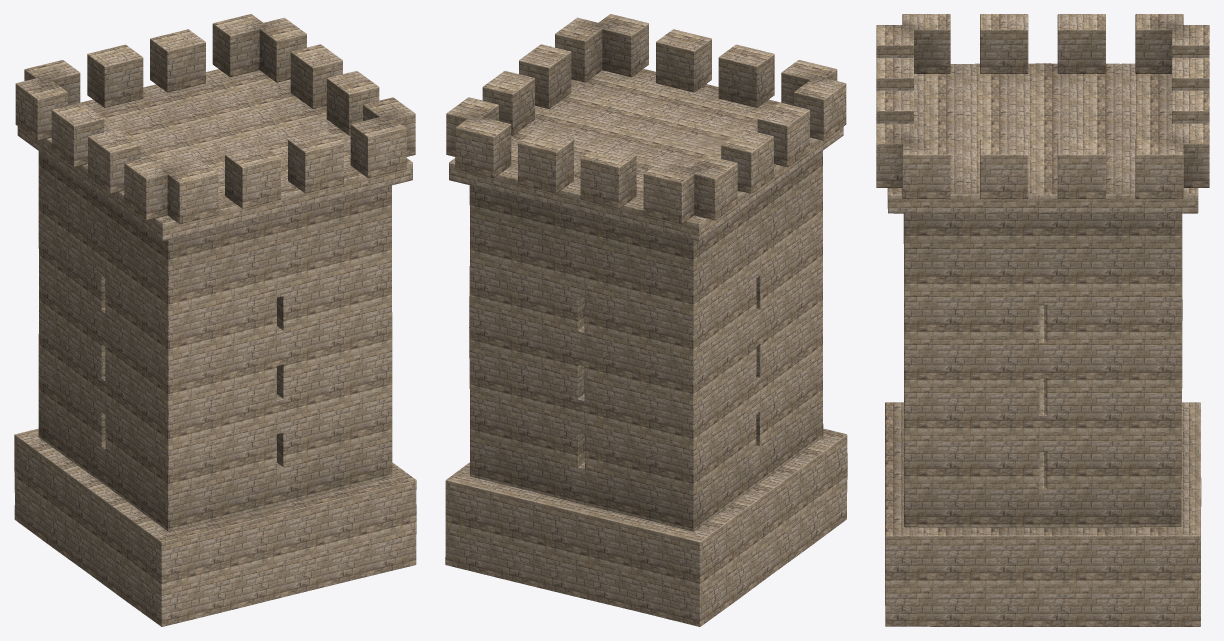
The model's file is w_tower.glb.
3 views of the same model, side by side, from view 1: azimuth 30°, elevation 25°; view 2: azimuth 150°, elevation 25°; view 3: azimuth 270°, elevation 25° (orthographic). The views are drawn at different scales.
Visible parts, largest first — view 1: tower; view 2: tower; view 3: tower.
Part boxes in pixels (<box>): tower: <box>14,14,416,626</box>; tower: <box>445,14,847,626</box>; tower: <box>876,14,1209,626</box>.
Size of the model in its own units: 13.2 by 20.81 by 13.2.
1 material, 1 textured.
